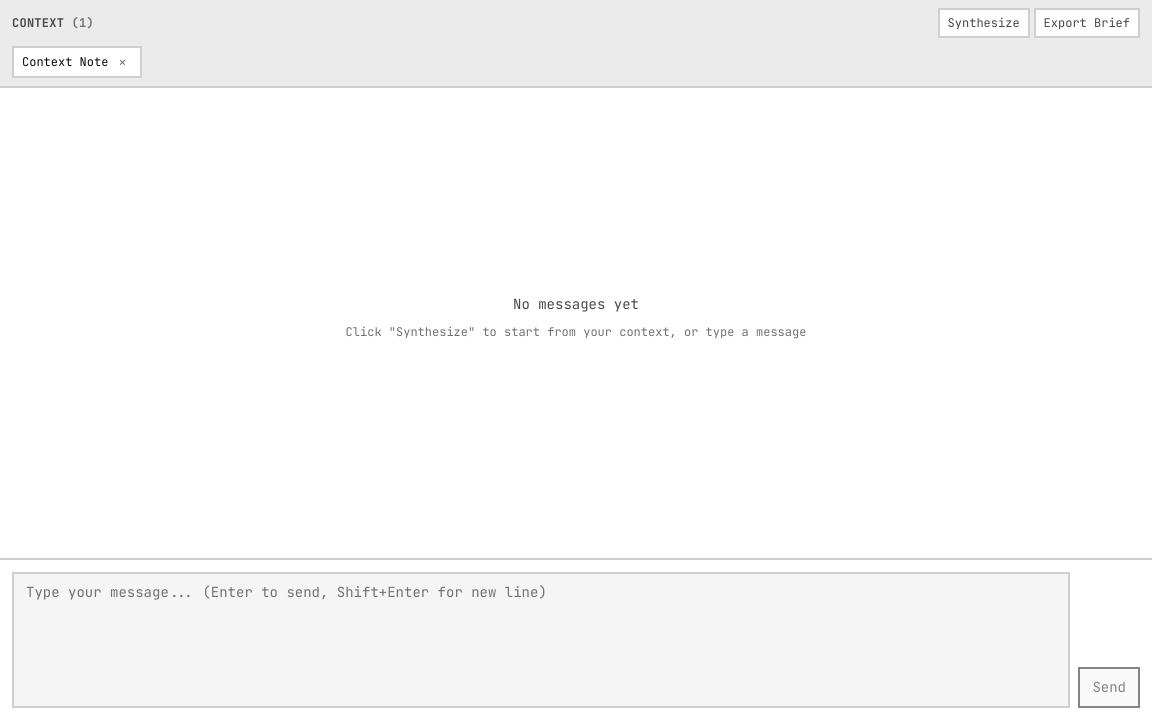
Scenario: ProbeChat component › exports a PM brief and reports export status
Replace the text in the text box with placeholder "Type your message" with "Ship the MVP with measurable guardrails." at (541, 640), box [12,572,1070,708]
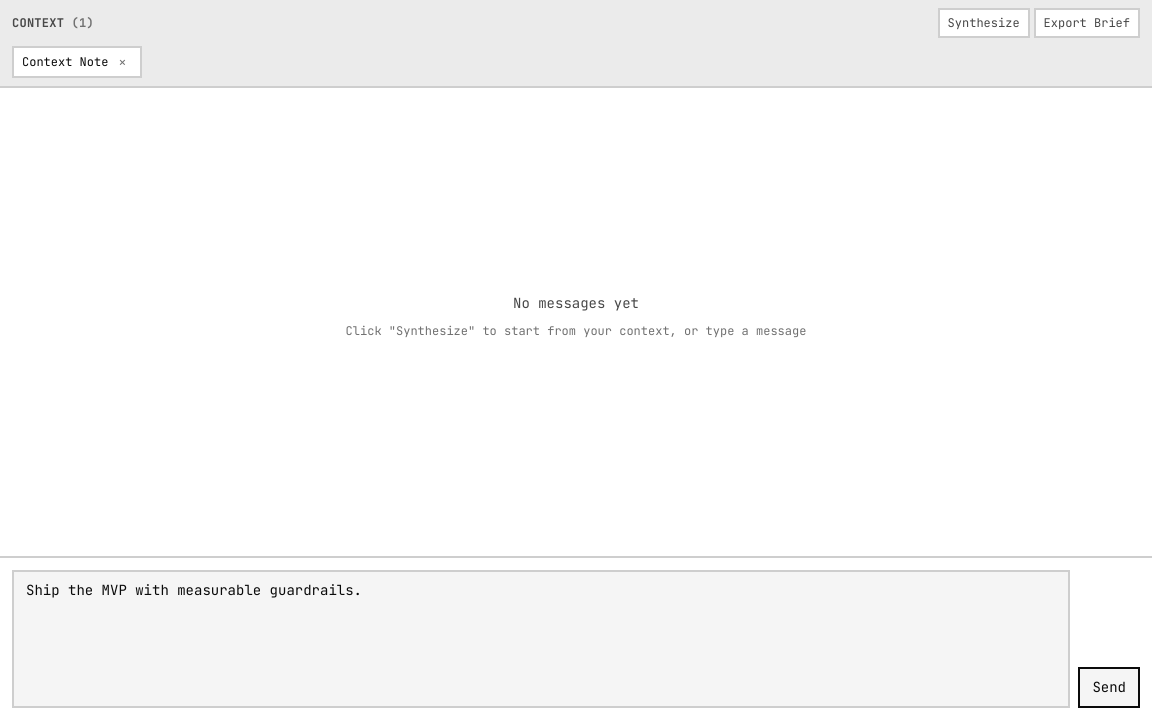
Click the button "Export Brief".
click(1087, 23)  # box [1034,8,1140,38]
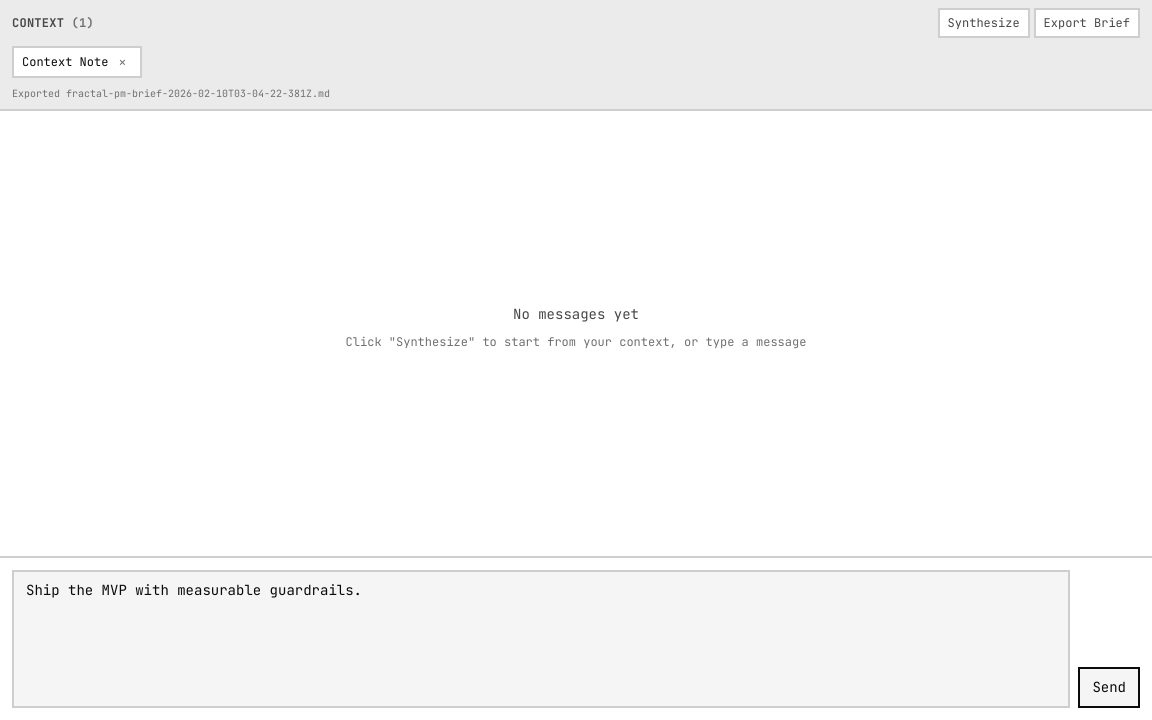
Expected: the text "Exported fractal-pm-brief-2026-02-10T03-04-22-381Z.md" is shown, [12,87,330,100]
